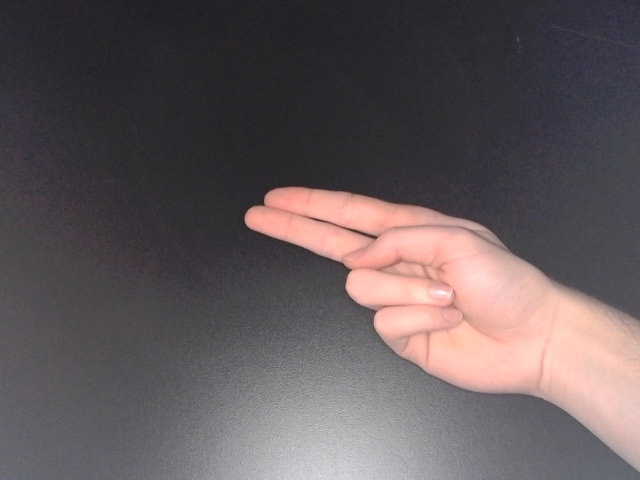h: (240, 182, 559, 411)
